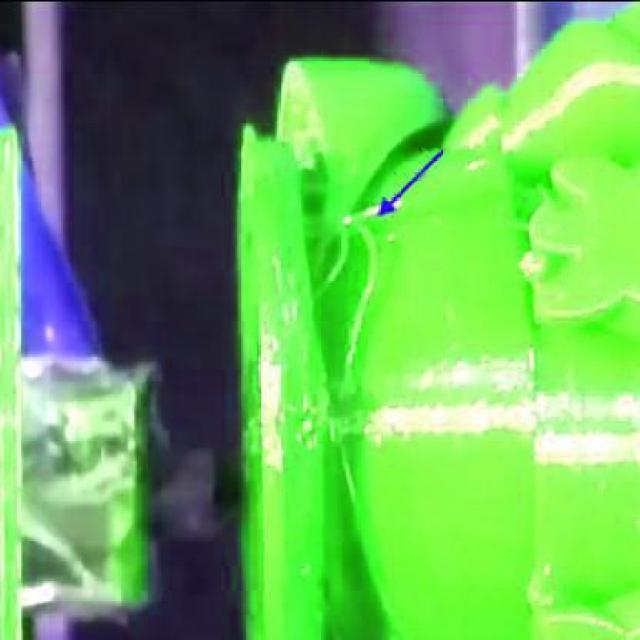spaghetti: (294, 211, 386, 420)
